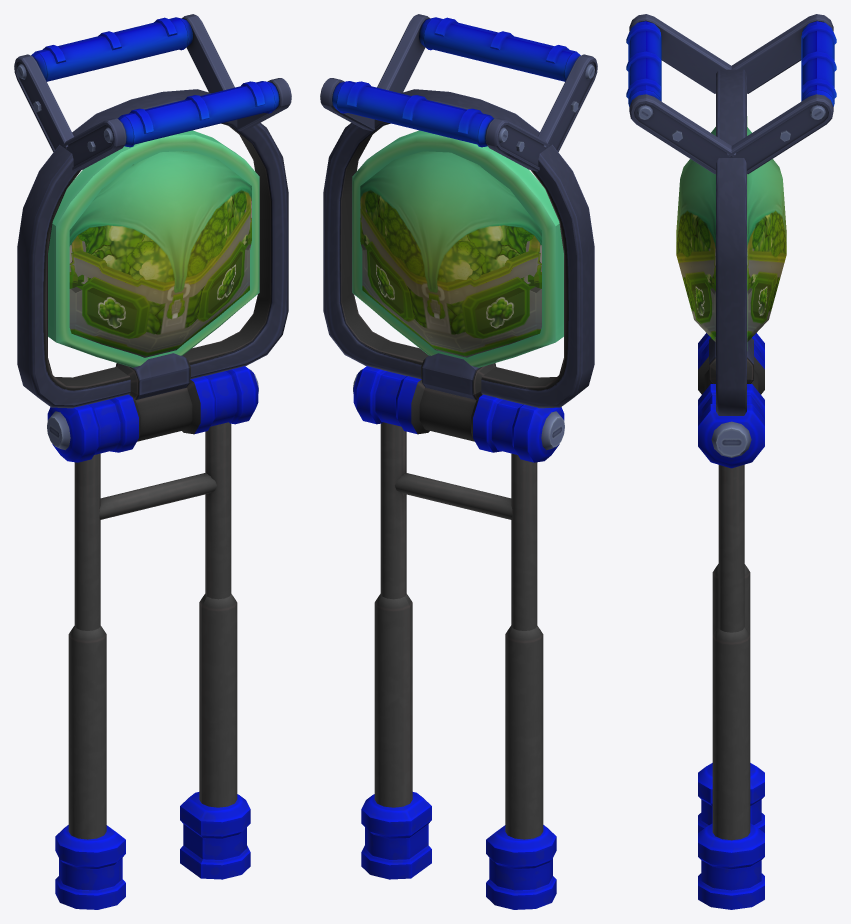
Rendered from env_packingstation_sign.fbx.
The picture shows the model from 3 angles, left to right: view 1: azimuth 30°, elevation 25°; view 2: azimuth 150°, elevation 25°; view 3: azimuth 270°, elevation 25°; orthographic projection.
Parts seen in each view (by area): view 1: env_packingstation_sign; view 2: env_packingstation_sign; view 3: env_packingstation_sign.
Part boxes in pixels (bbox=[...]): env_packingstation_sign: bbox=[14, 14, 291, 909]; env_packingstation_sign: bbox=[320, 14, 597, 909]; env_packingstation_sign: bbox=[626, 14, 836, 909].
Size of the model in its own units: 33.52 by 101 by 23.7.
